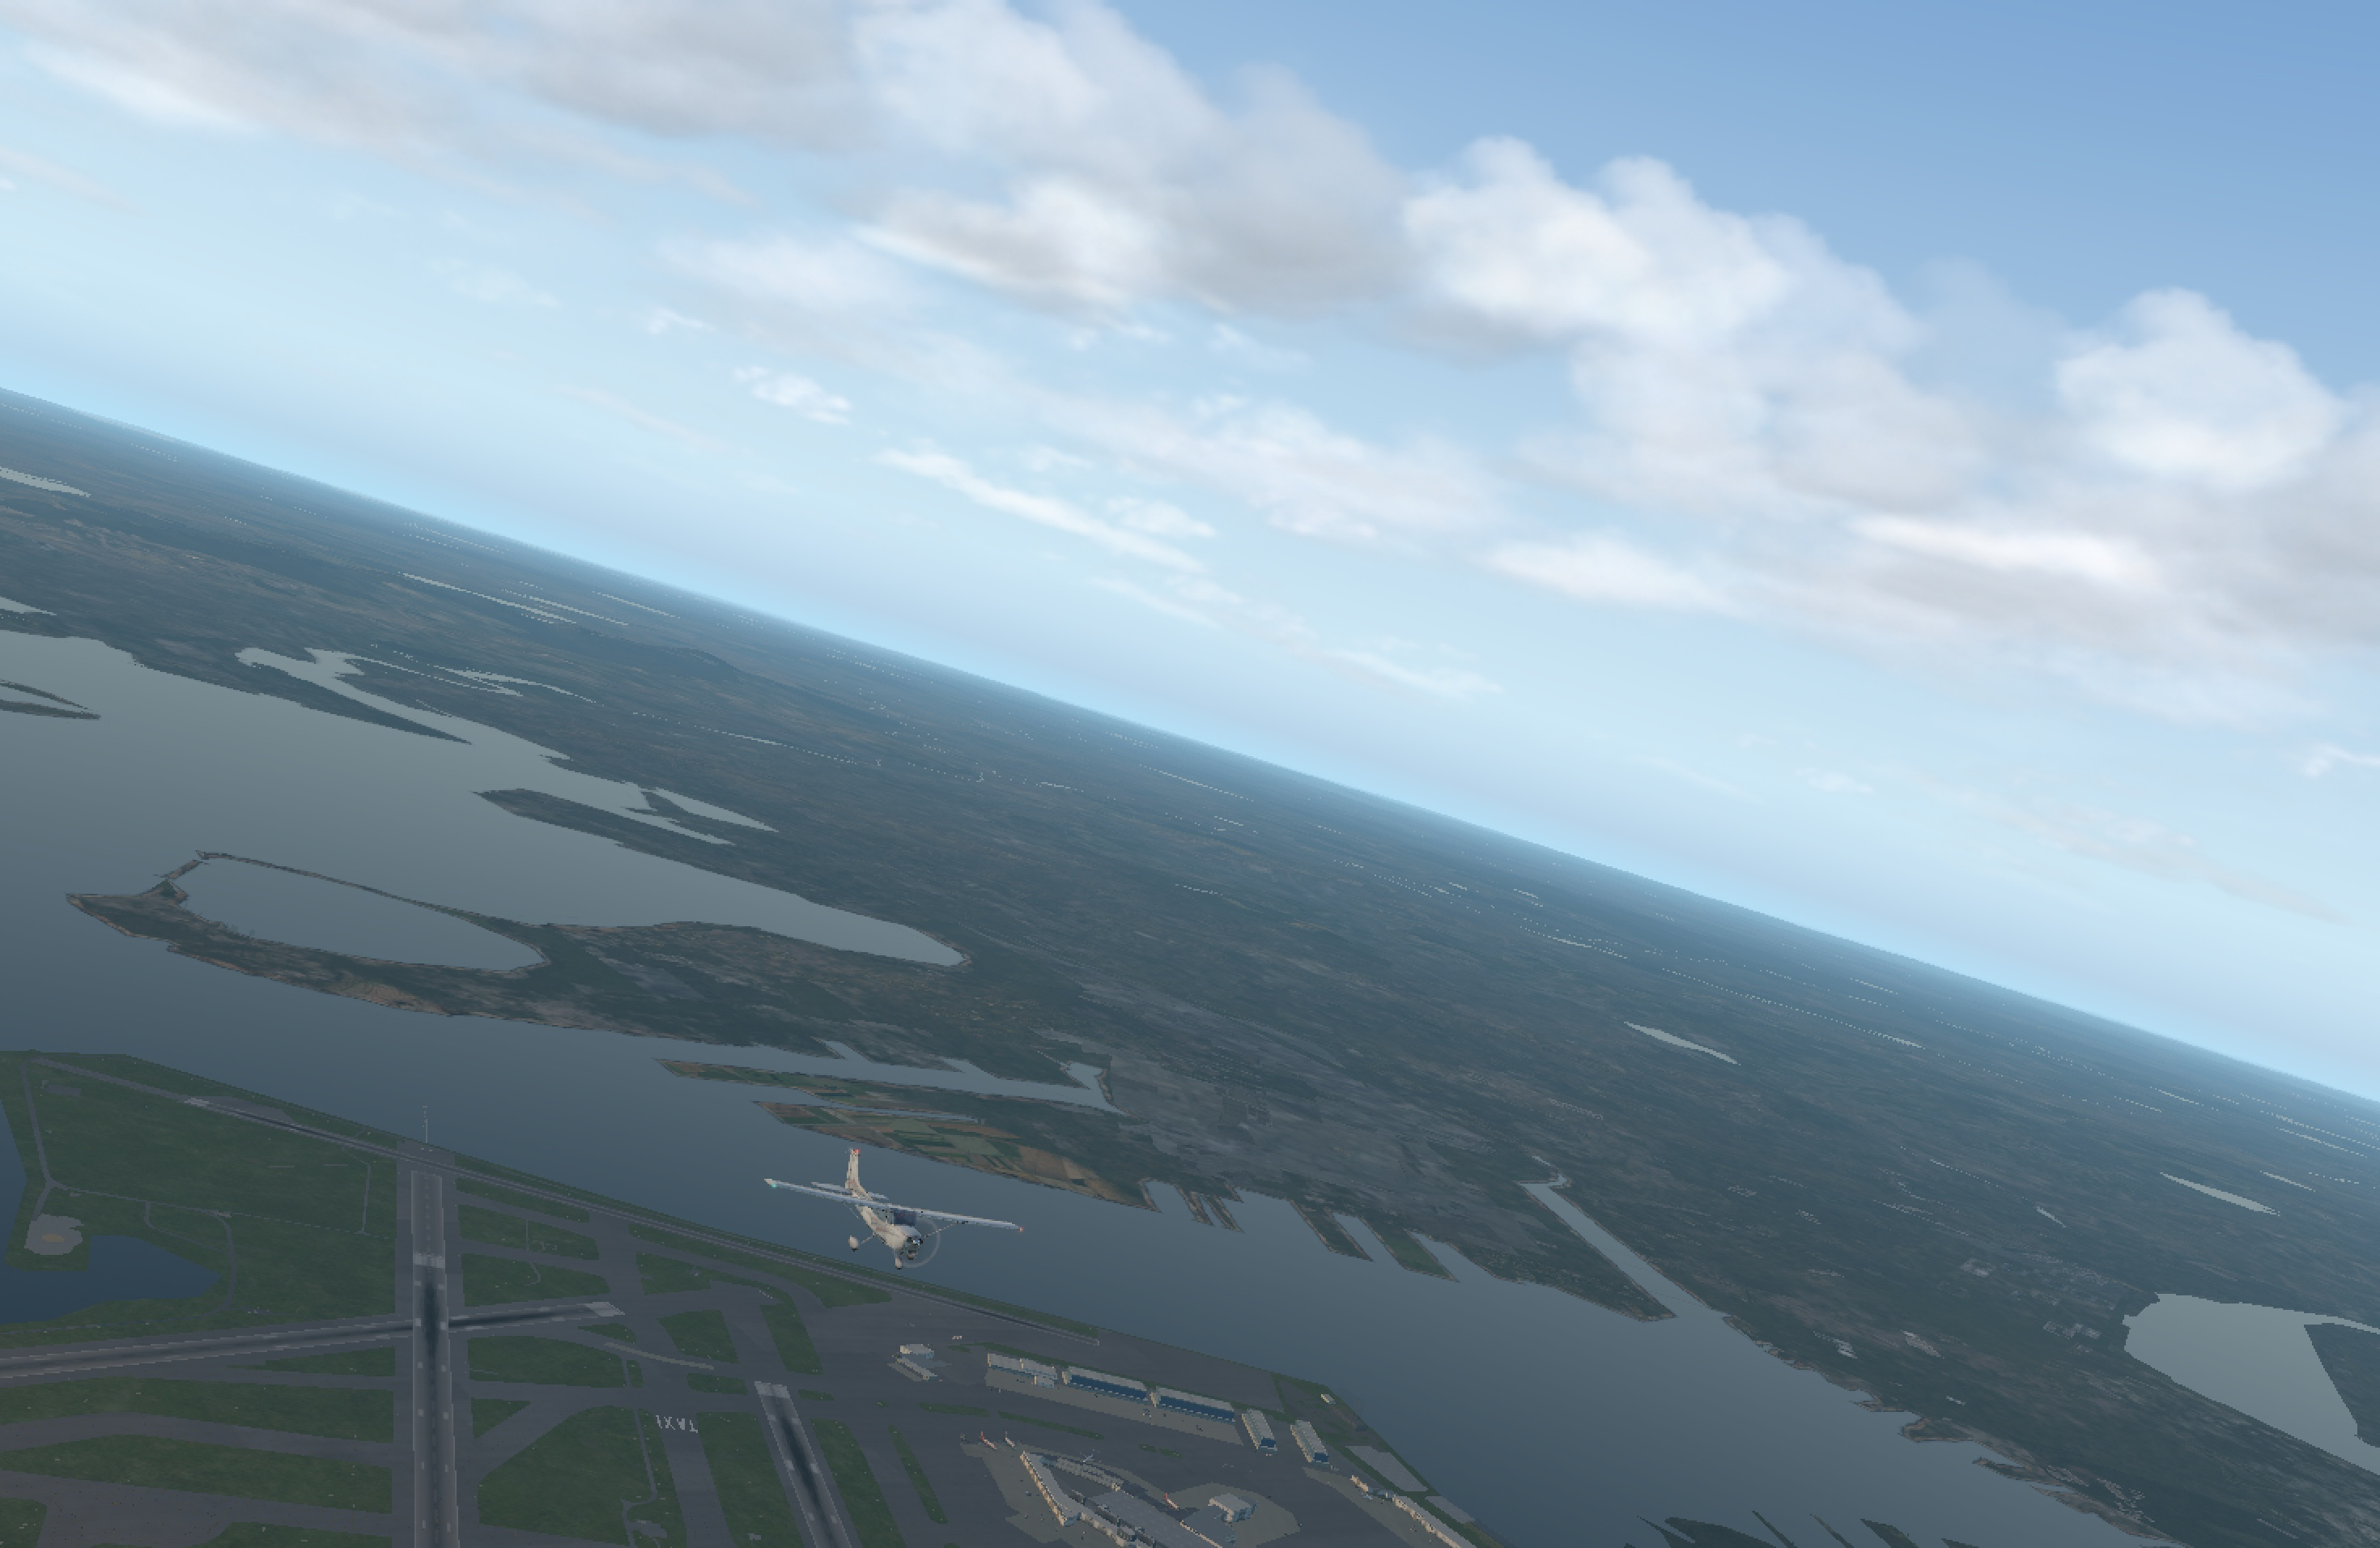aircraft: (798, 1187, 992, 1260)
